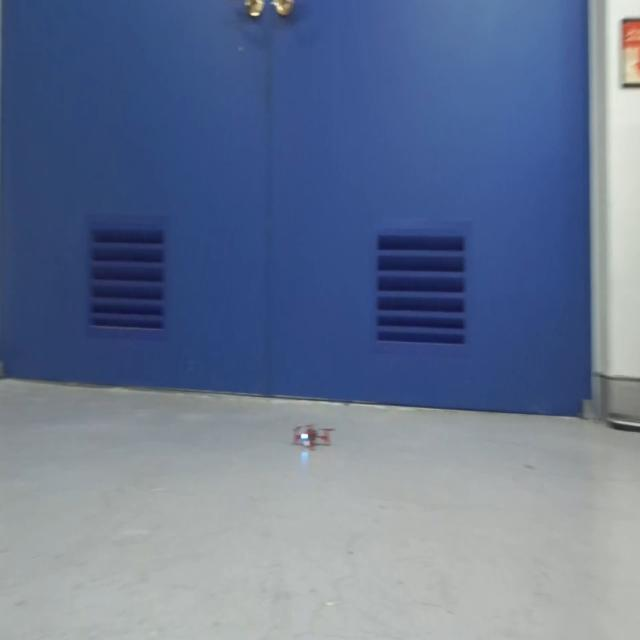crazyflie: (289, 416, 339, 452)
